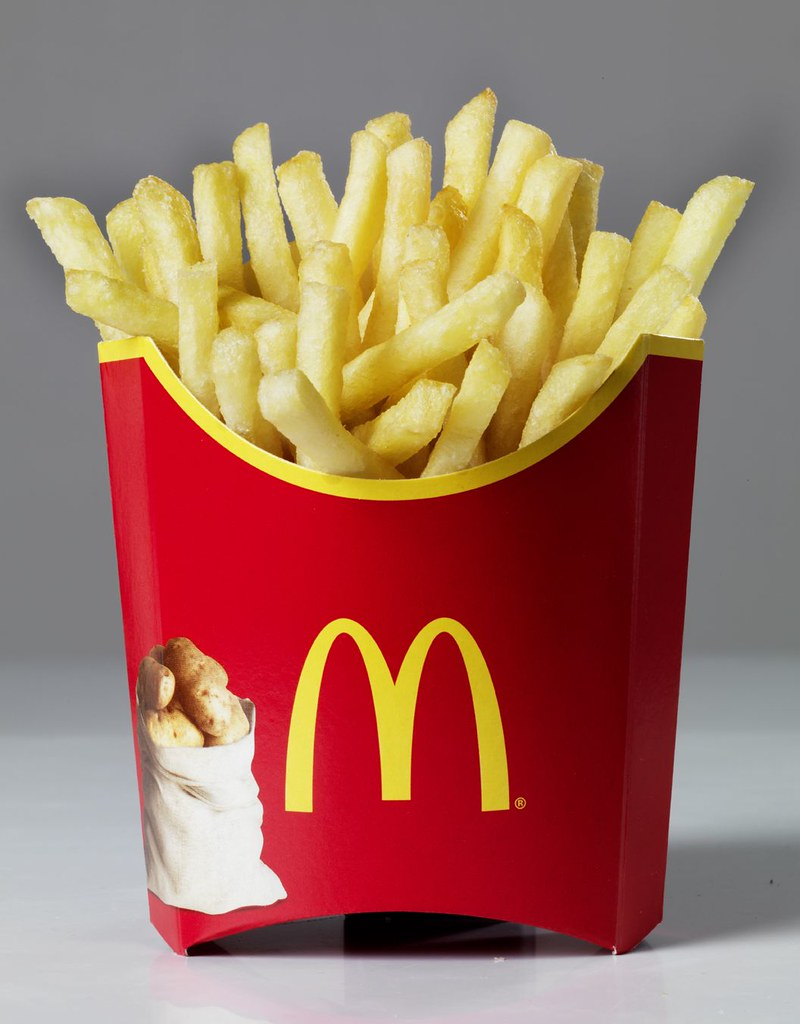mcdonalds: (265, 586, 557, 859)
